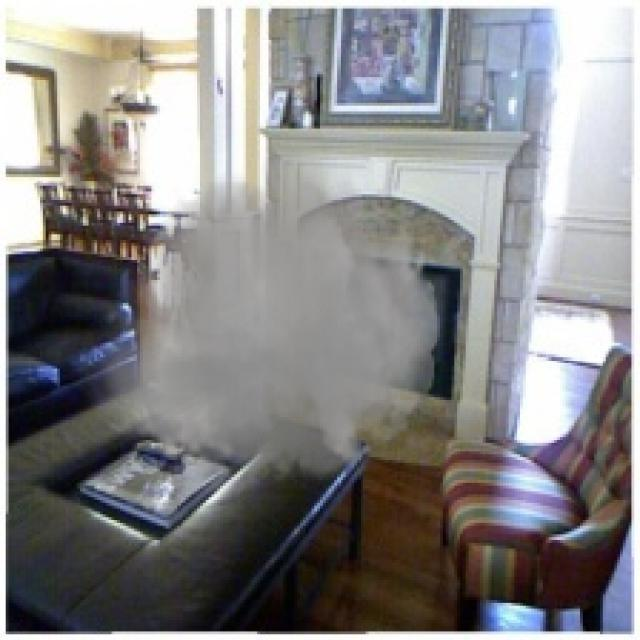Smoke: (74, 128, 449, 512)
